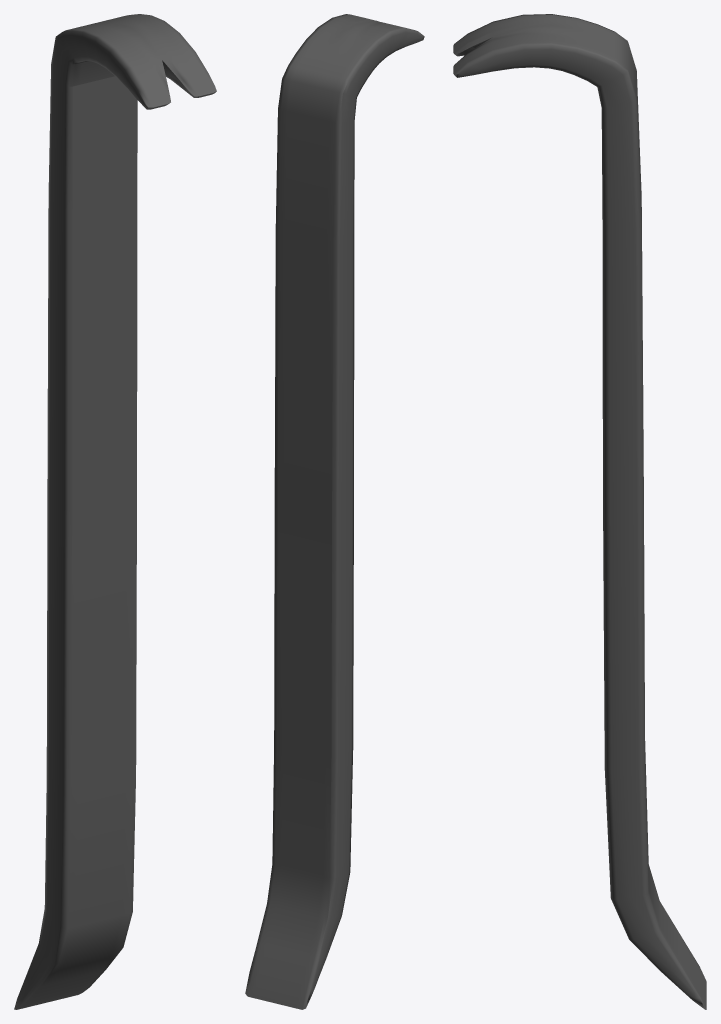
Rendered from PéCabra.fbx.
The picture shows the model from 3 angles, left to right: view 1: azimuth 30°, elevation 25°; view 2: azimuth 150°, elevation 25°; view 3: azimuth 270°, elevation 25°; orthographic projection. The views are drawn at different scales.
Visible parts, largest first — view 1: Cube; view 2: Cube; view 3: Cube.
Part boxes in pixels (x1,y1,x2,y2): Cube: [14, 14, 216, 1009]; Cube: [245, 14, 424, 1009]; Cube: [453, 14, 706, 1009].
Size of the model in its own units: 6.88 by 95.01 by 22.57.
1 material, 1 textured.
